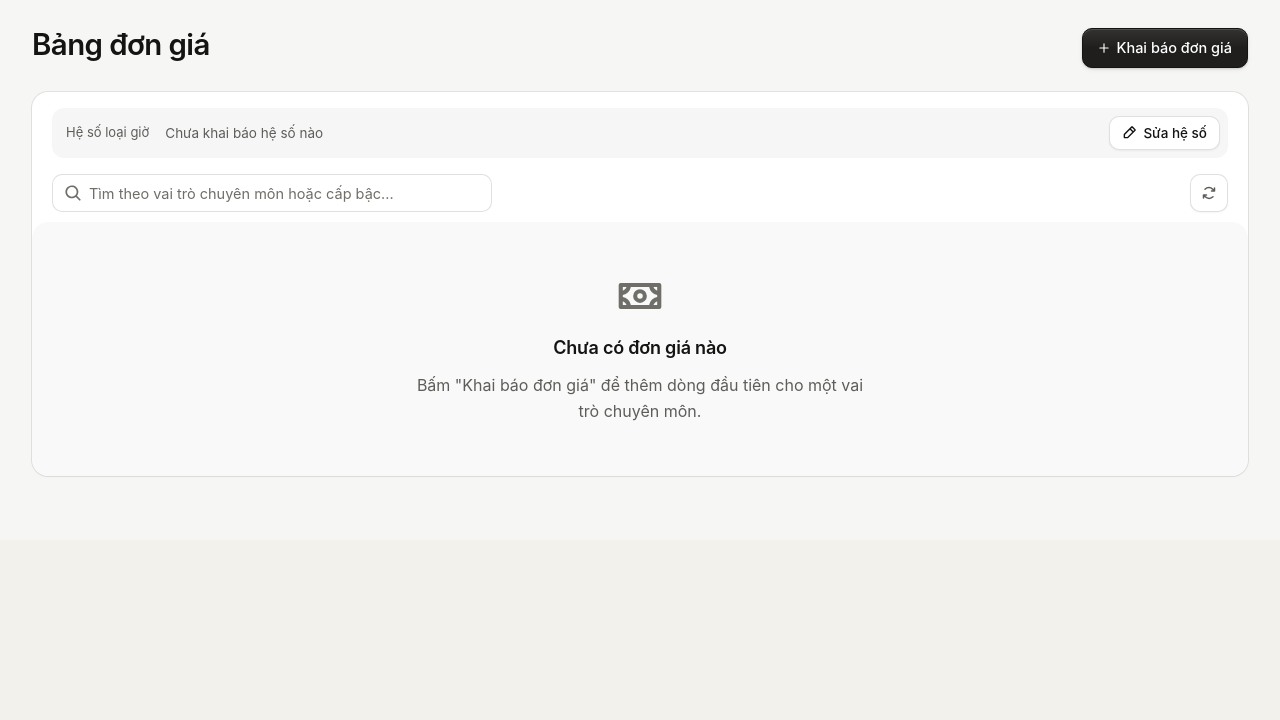
Test case: BillRatePage (NCL-07-CN-001 — Khai báo bảng đơn giá theo vai trò) › Quản trị viên (VT-07) cũng khai báo được: mở modal, điền form, lưu thành công thì bảng cập nhật ngay
The width and height of the screenshot is (1280, 720).
Expected: the element with test id "bill-rate-empty" is shown, [32, 222, 1248, 476]
Click the button "Khai báo đơn giá" at (1165, 48), box [1082, 28, 1248, 68]
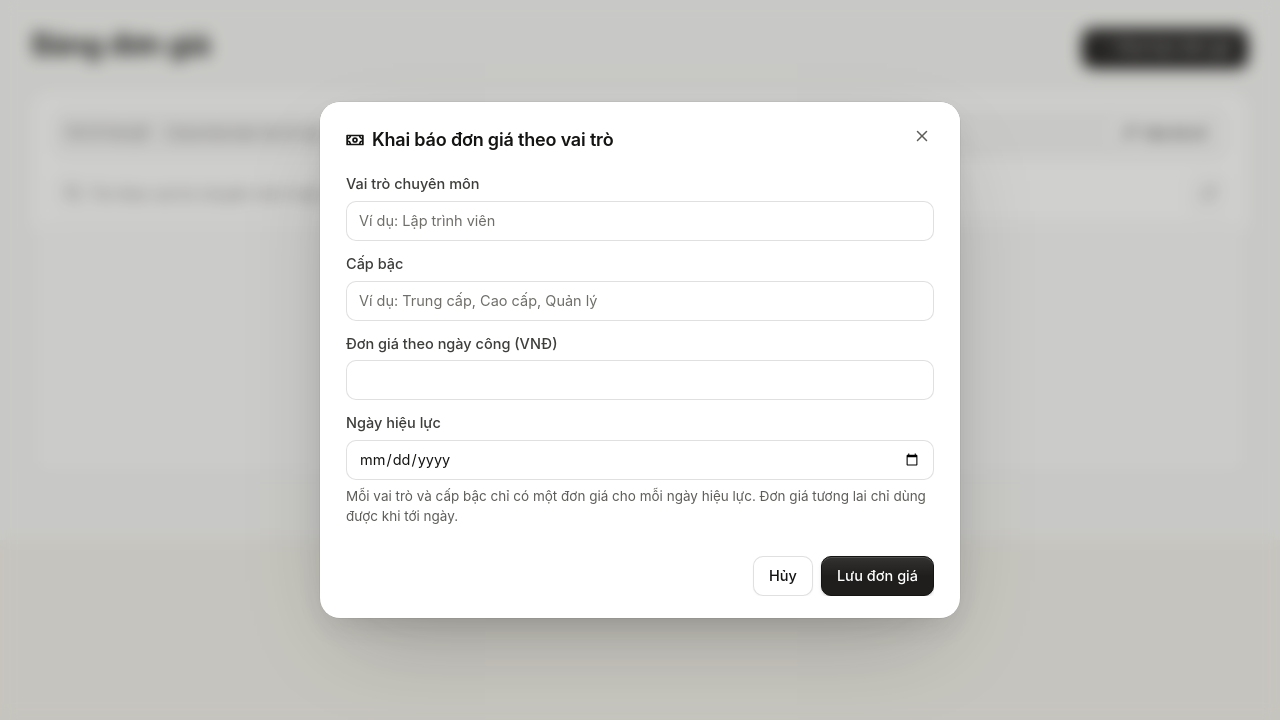
Type "Kiểm thử viên" into the field labelled "Vai trò chuyên môn" at (640, 221), box [346, 201, 934, 241]
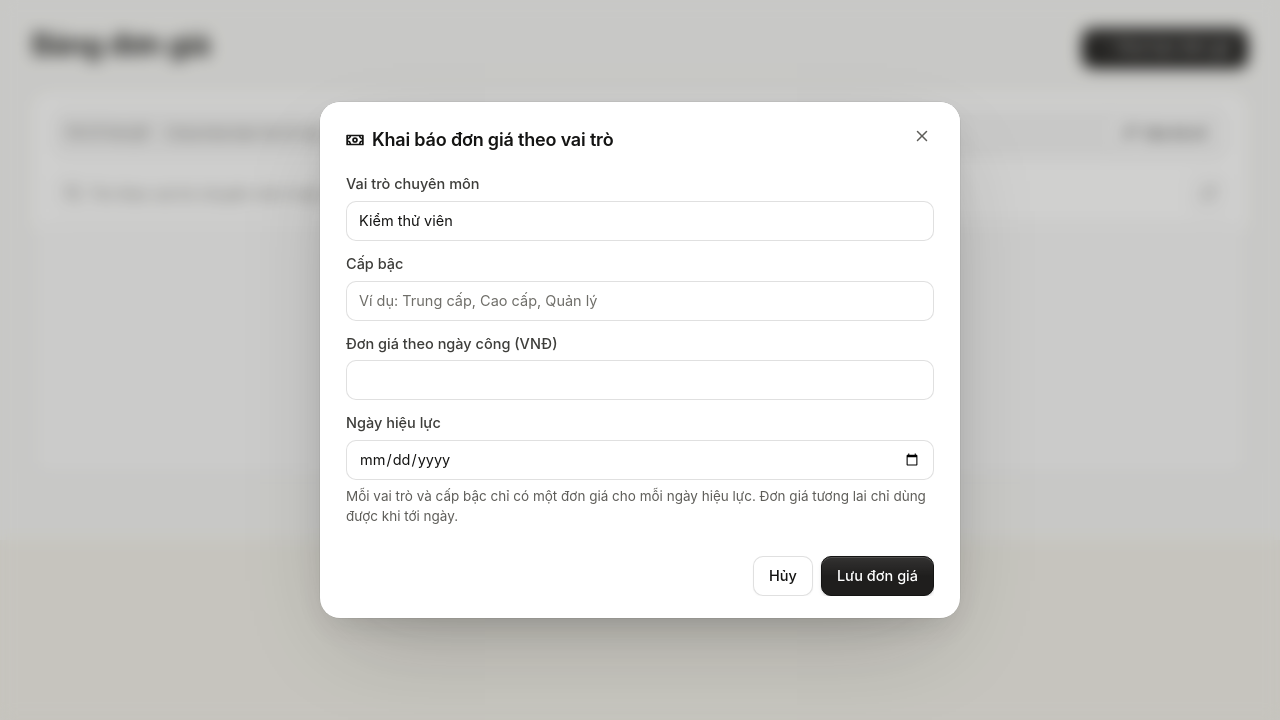
Type "Trung cấp" into the field labelled "Cấp bậc" at (640, 301), box [346, 281, 934, 321]
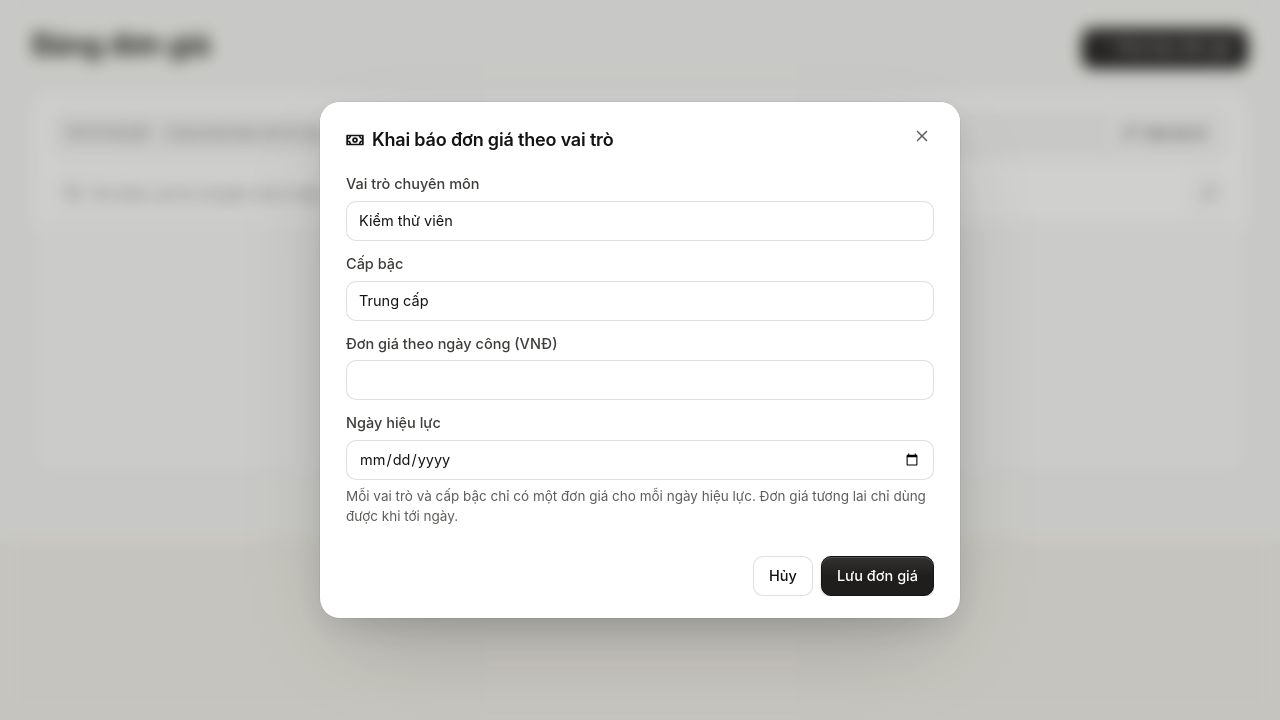
Type "1200000" into the field labelled "Đơn giá theo ngày công" at (640, 380), box [346, 360, 934, 400]
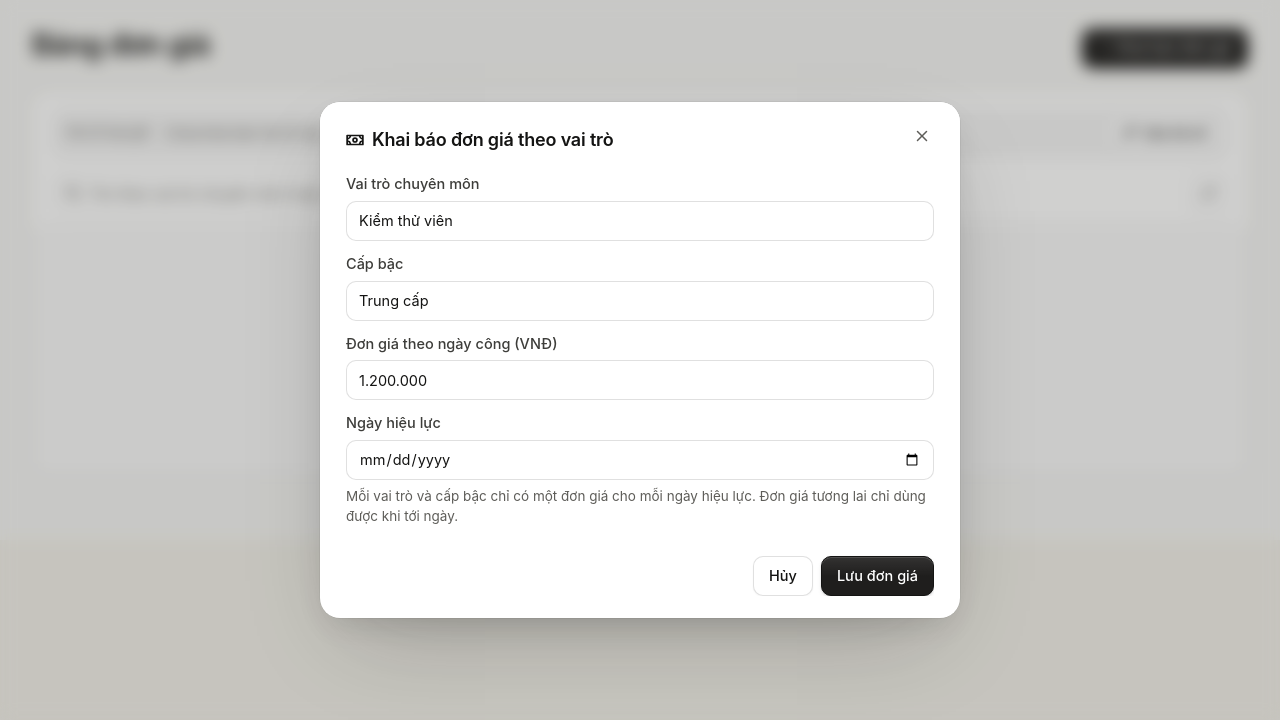
Type "2020-01-01" into the date field labelled "Ngày hiệu lực" at (640, 460), box [346, 440, 934, 480]
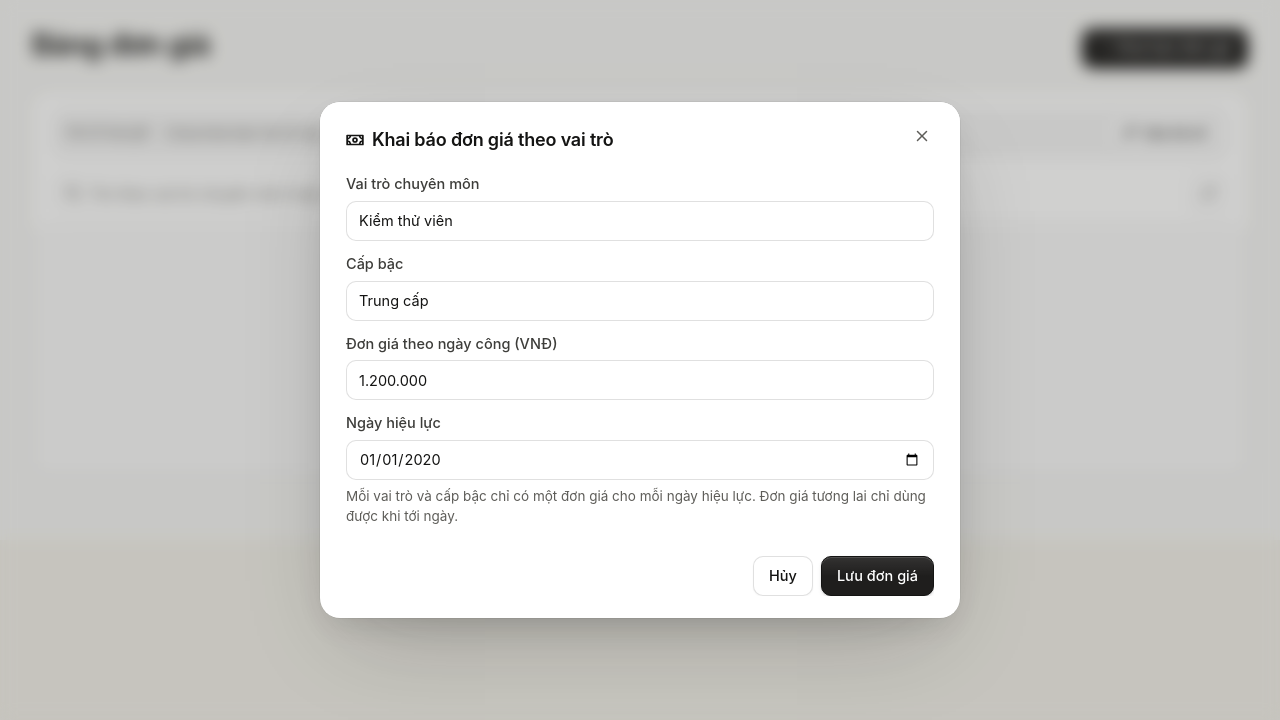
Click the button "Lưu đơn giá" at (877, 576), box [821, 556, 934, 596]
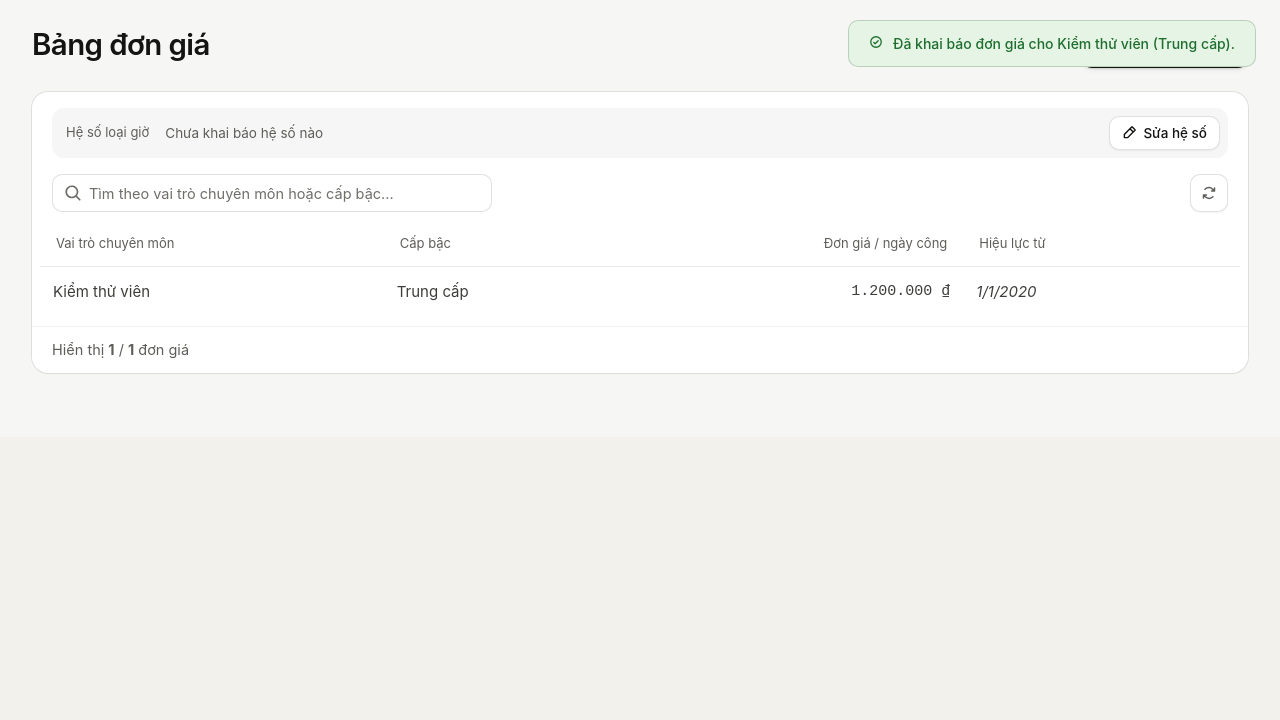
Now the text "Kiểm thử viên" is shown, box [40, 266, 384, 318]
